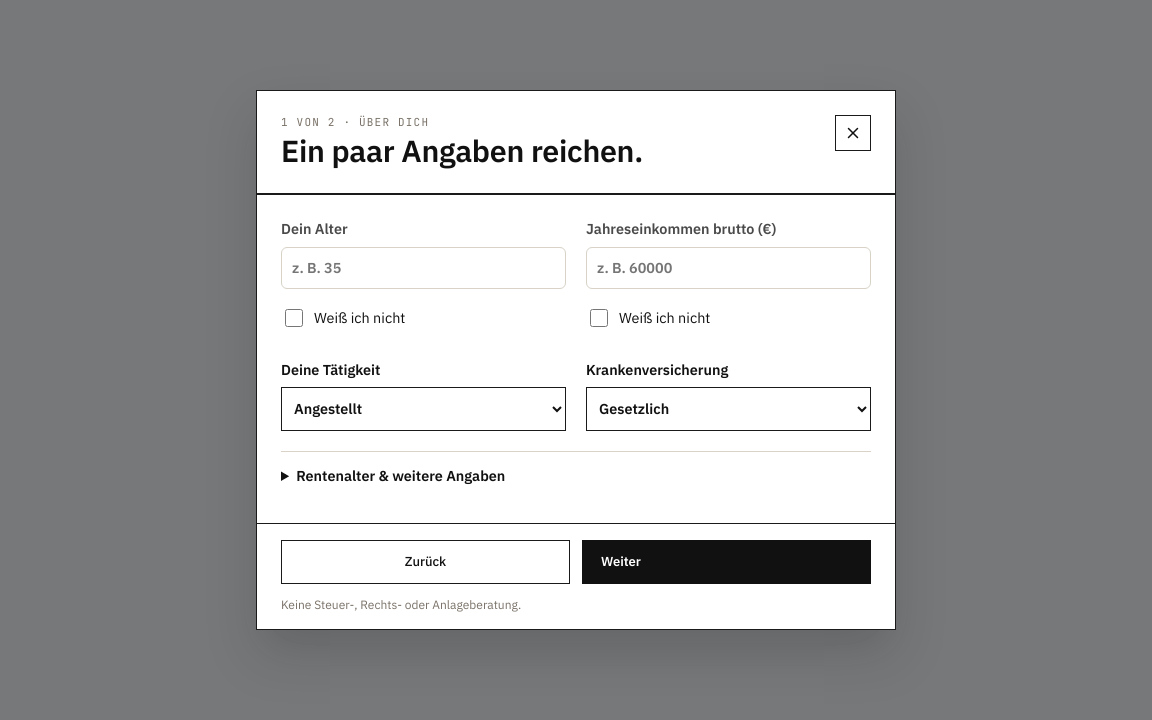
onboarding provenance › applies the blank-field rule to both onboarding steps
Type "35" into the number field labelled "Dein Alter" at (424, 268), box x1=282 y1=248 x2=565 y2=288
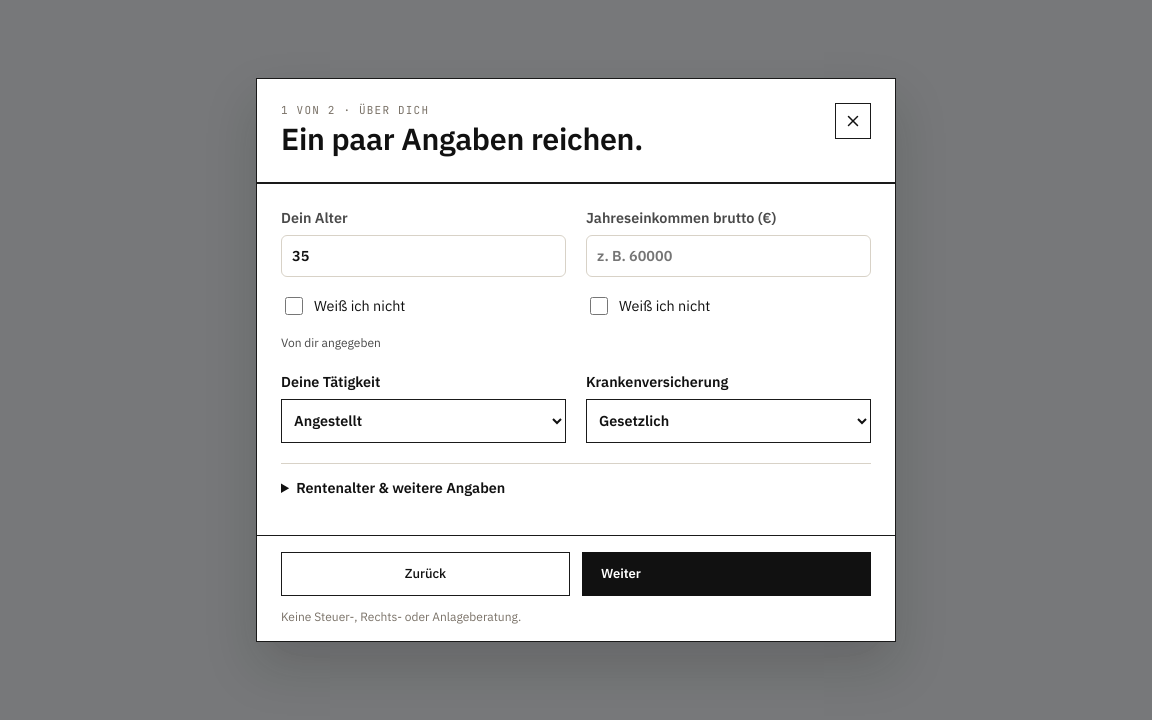
Type "60000" into the number field labelled "Jahreseinkommen brutto (€)" at (728, 256), box x1=587 y1=236 x2=870 y2=276
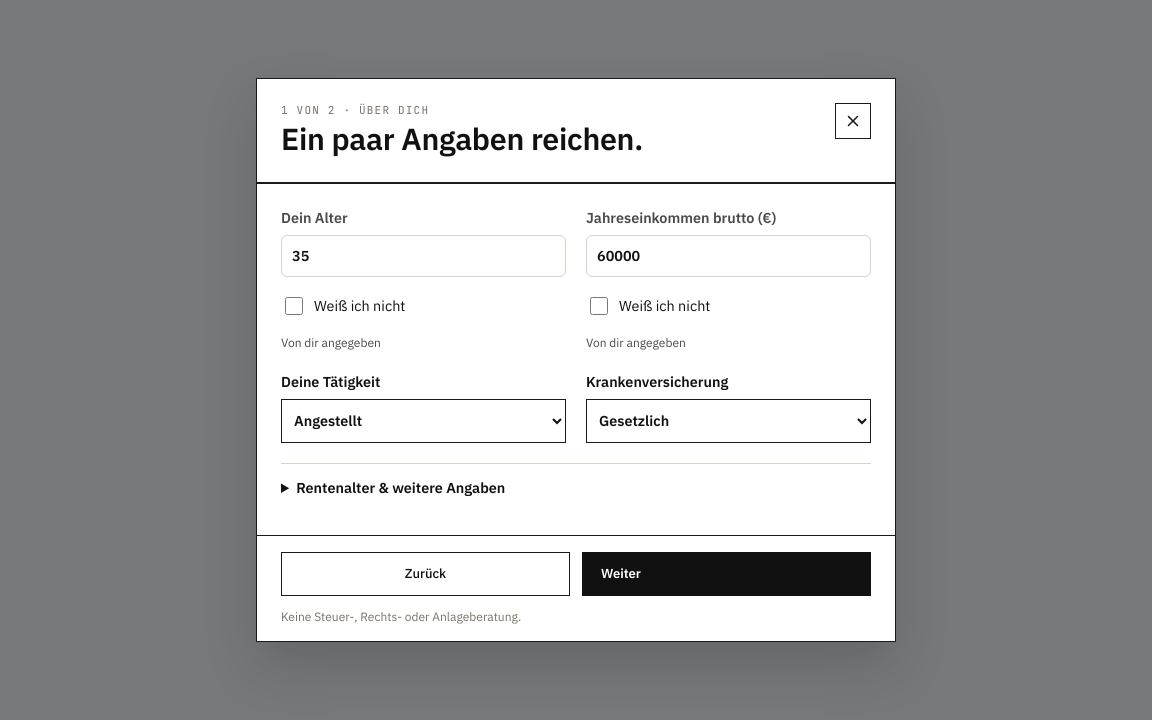
Click the button "Weiter" at (621, 574), box x1=582 y1=552 x2=871 y2=596
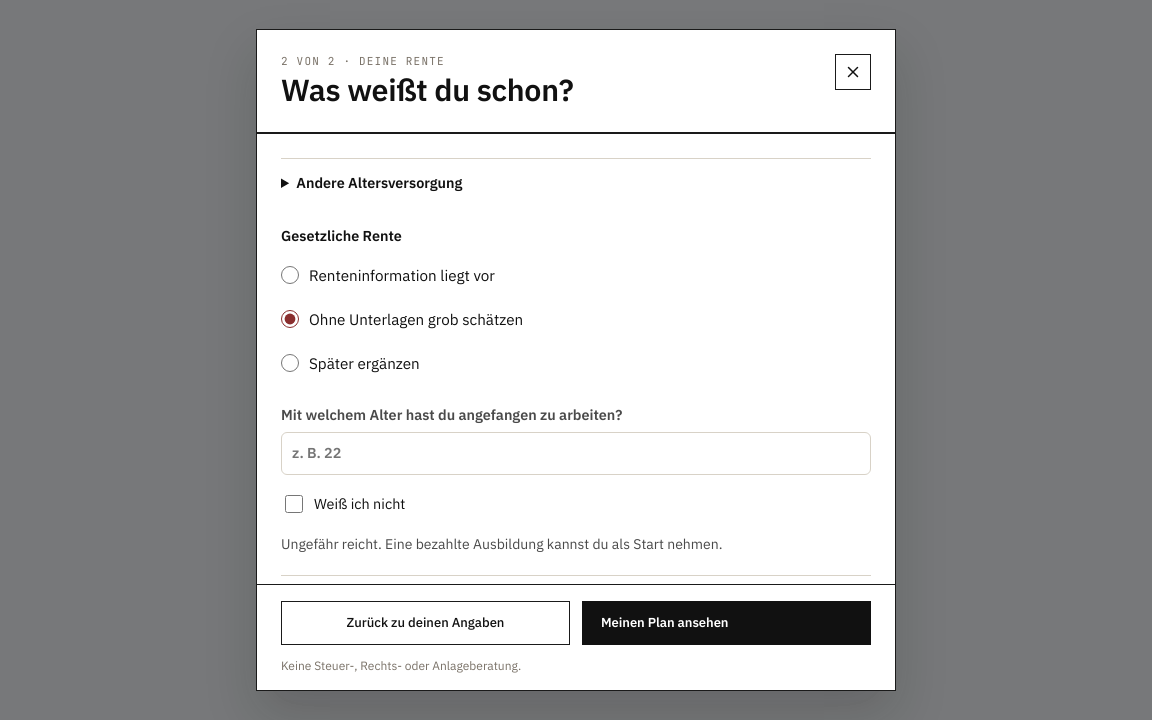
Now the number field is not empty
Type "22" into the number field at (576, 453), box x1=282 y1=433 x2=870 y2=474
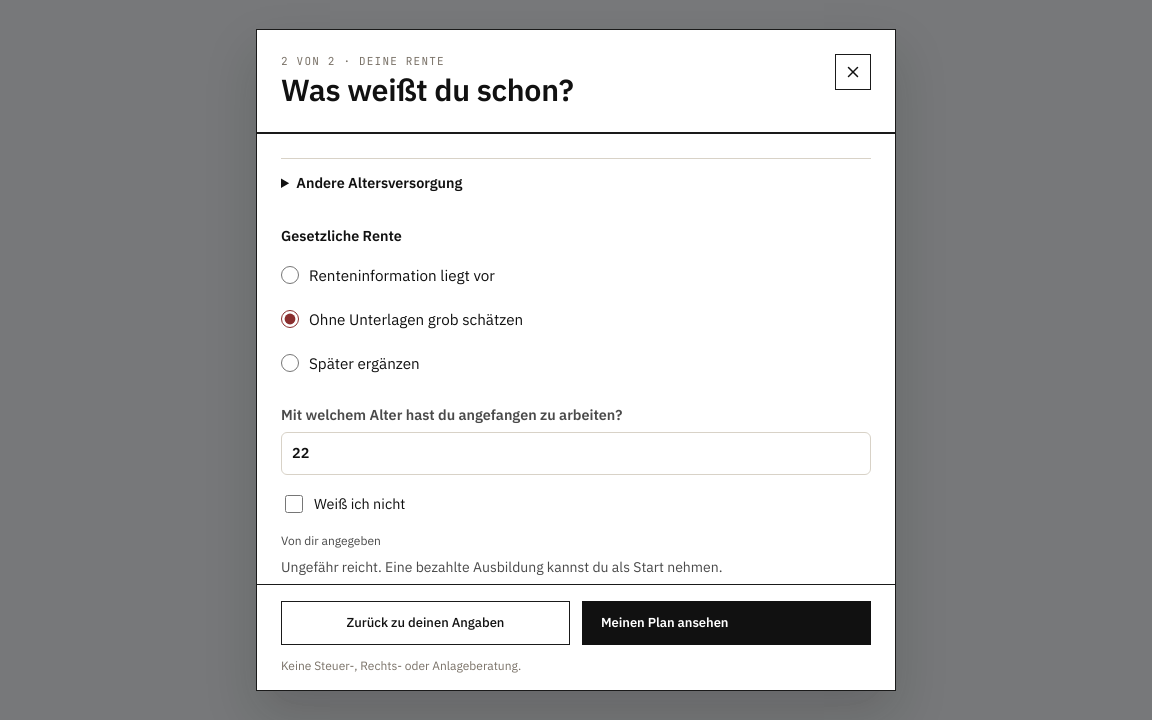
Now the text "Von dir angegeben" is shown, box x1=281 y1=533 x2=381 y2=548
